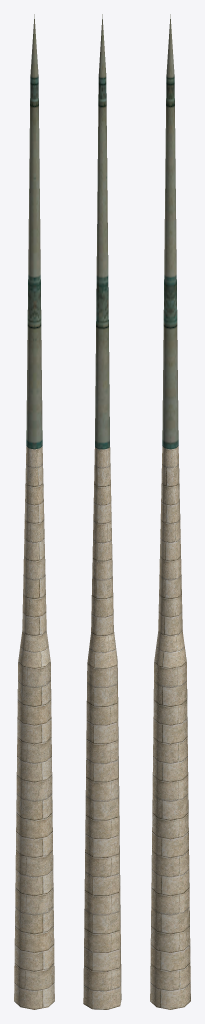
The model's file is thm_nboo_thed_imprv_obelisk_s03_l1.fbx.
3 renders of one model, left to right at view 1: azimuth 90°, elevation 25°; view 2: azimuth 150°, elevation 25°; view 3: azimuth 270°, elevation 25°, orthographic.
Parts seen in each view (by area): view 1: mesh_node; view 2: mesh_node; view 3: mesh_node.
Part boxes in pixels (x1,y1,x2,y2): mesh_node: (14,14,54,1009); mesh_node: (83,14,121,1009); mesh_node: (150,14,190,1009).
Size of the model in its own units: 1.12 by 30 by 1.12.
